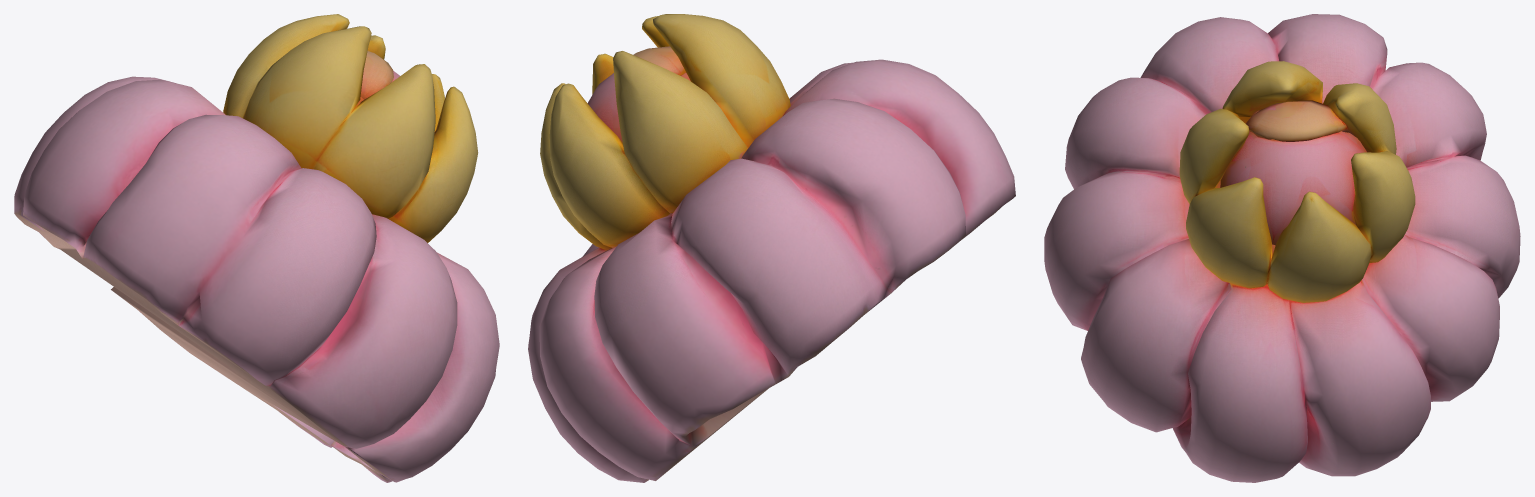
Rendered from bloom1.glb.
The picture shows the model from 3 angles, left to right: view 1: azimuth 30°, elevation 25°; view 2: azimuth 150°, elevation 25°; view 3: azimuth 270°, elevation 25°; orthographic projection. The views are drawn at different scales.
Visible parts, largest first — view 1: world; view 2: world; view 3: world.
Boxes of the visible parts, x1=… form: world: x1=14, y1=14, x2=499, y2=482; world: x1=528, y1=14, x2=1015, y2=482; world: x1=1044, y1=14, x2=1520, y2=482.
Size of the model in its own units: 0.916 by 0.9238 by 0.998.
1 material, 1 textured.
